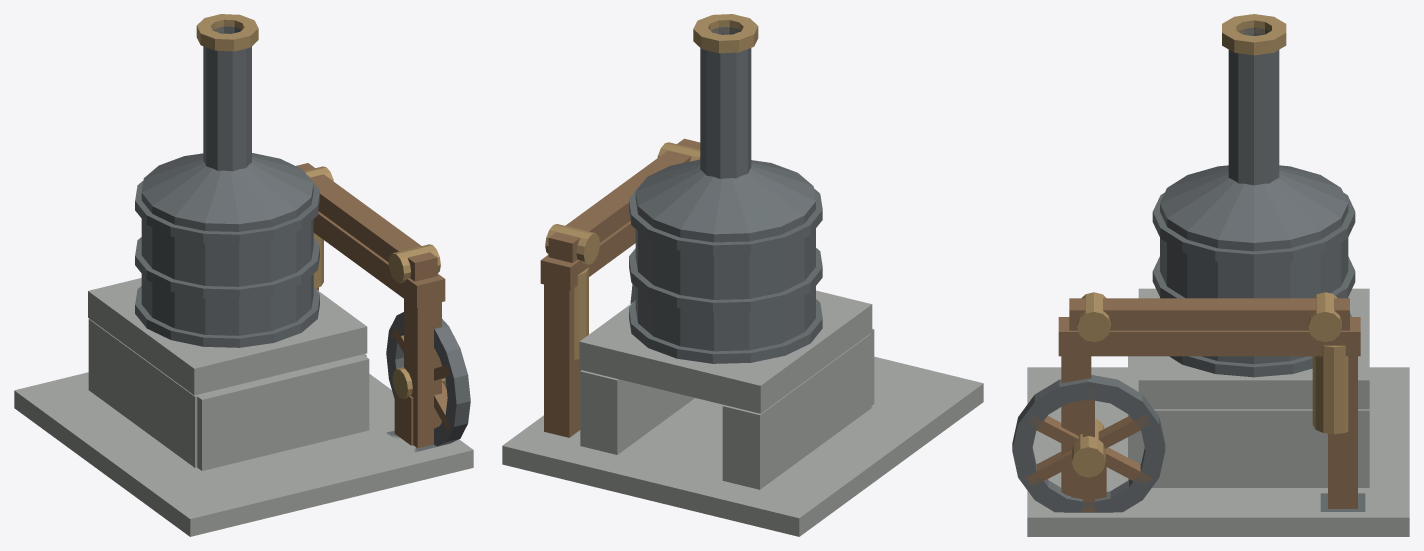
Rendered from vf_steam_engine.glb.
The picture shows the model from 3 angles, left to right: view 1: azimuth 30°, elevation 25°; view 2: azimuth 150°, elevation 25°; view 3: azimuth 270°, elevation 25°; orthographic projection. The views are drawn at different scales.
Visible parts, largest first — view 1: Static_Stone, Static_Iron, Static_Oak, Beam_Oak, Rotor_Iron, Static_Bronze, Beam_Bronze, Rotor_Oak, Rotor_Bronze; view 2: Static_Stone, Static_Iron, Static_Oak, Beam_Oak, Static_Bronze, Beam_Bronze; view 3: Static_Stone, Static_Iron, Static_Oak, Rotor_Iron, Beam_Oak, Static_Bronze, Rotor_Oak, Beam_Bronze, Rotor_Bronze.
Part boxes in pixels (x1,y1,x2,y2): Static_Stone: [14, 278, 473, 536]; Static_Iron: [135, 26, 450, 451]; Static_Oak: [313, 211, 445, 448]; Beam_Oak: [296, 163, 437, 281]; Rotor_Iron: [386, 312, 470, 446]; Static_Bronze: [196, 14, 323, 288]; Beam_Bronze: [304, 166, 440, 283]; Rotor_Oak: [392, 326, 450, 430]; Rotor_Bronze: [392, 367, 446, 398]; Static_Stone: [502, 290, 983, 536]; Static_Iron: [629, 27, 822, 363]; Static_Oak: [540, 221, 635, 437]; Beam_Oak: [548, 138, 700, 262]; Static_Bronze: [574, 14, 758, 359]; Beam_Bronze: [545, 142, 700, 264]; Static_Stone: [1027, 288, 1409, 536]; Static_Iron: [1064, 27, 1365, 512]; Static_Oak: [1058, 317, 1360, 508]; Rotor_Iron: [1012, 375, 1165, 512]; Beam_Oak: [1069, 298, 1349, 330]; Static_Bronze: [1222, 14, 1348, 434]; Rotor_Oak: [1026, 388, 1151, 512]; Beam_Bronze: [1077, 292, 1341, 342]; Rotor_Bronze: [1072, 418, 1105, 477].
Bounding box in the file's own units: 2.08 × 2.69 × 2.24.
